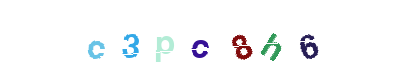3: (129, 0, 209, 80)
6: (232, 0, 312, 80)
8: (223, 0, 303, 80)
C: (75, 0, 155, 80), (202, 0, 282, 80)
H: (224, 0, 304, 80)
P: (167, 0, 247, 80)
